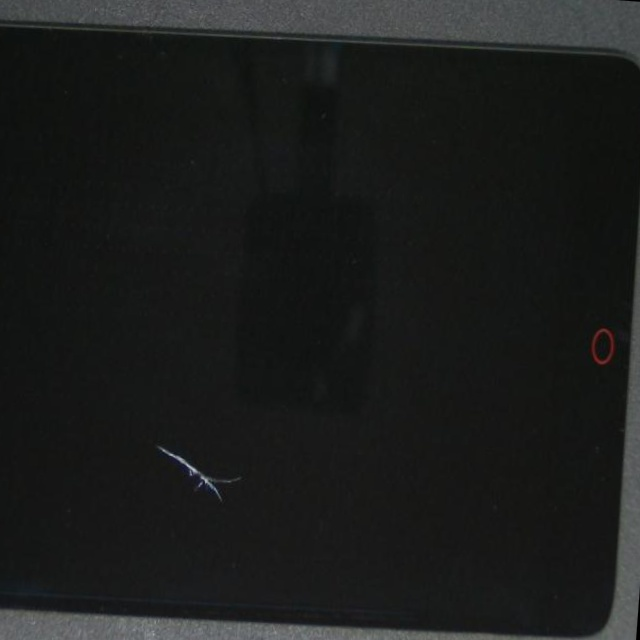scratch: (72, 209, 340, 640)
